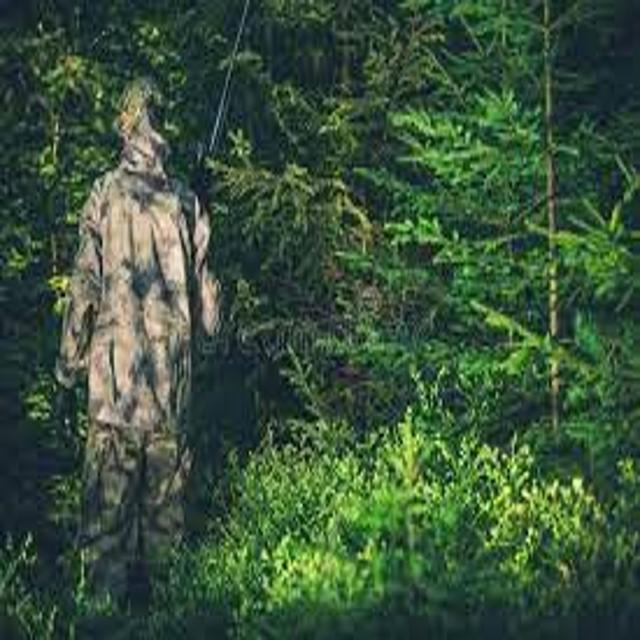poacher: (19, 50, 298, 616)
